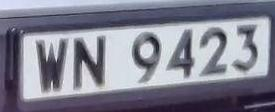2: (197, 21, 233, 83)
3: (230, 20, 262, 80)
4: (164, 23, 199, 85)
9: (127, 28, 166, 88)
N: (69, 33, 113, 94)
W: (32, 34, 74, 95)
